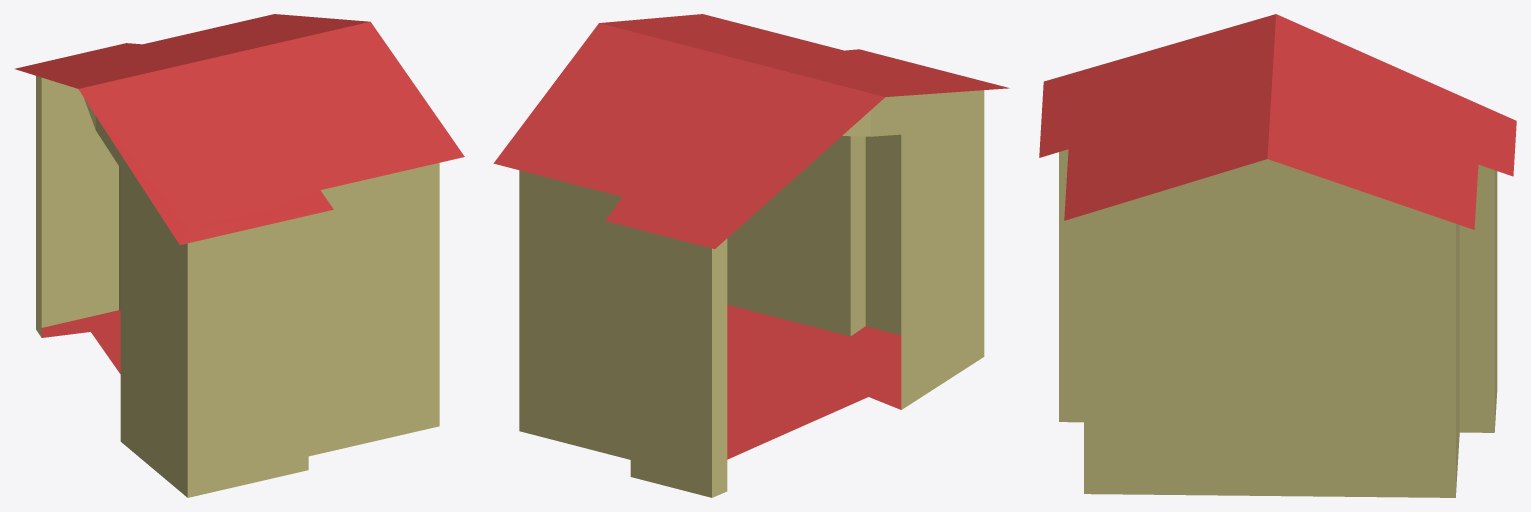
3 views of the same model, side by side, from view 1: azimuth 30°, elevation 25°; view 2: azimuth 150°, elevation 25°; view 3: azimuth 270°, elevation 25° (orthographic). The views are drawn at different scales.
Bounding box in the file's own units: 9.43 × 12.45 × 9.92.
